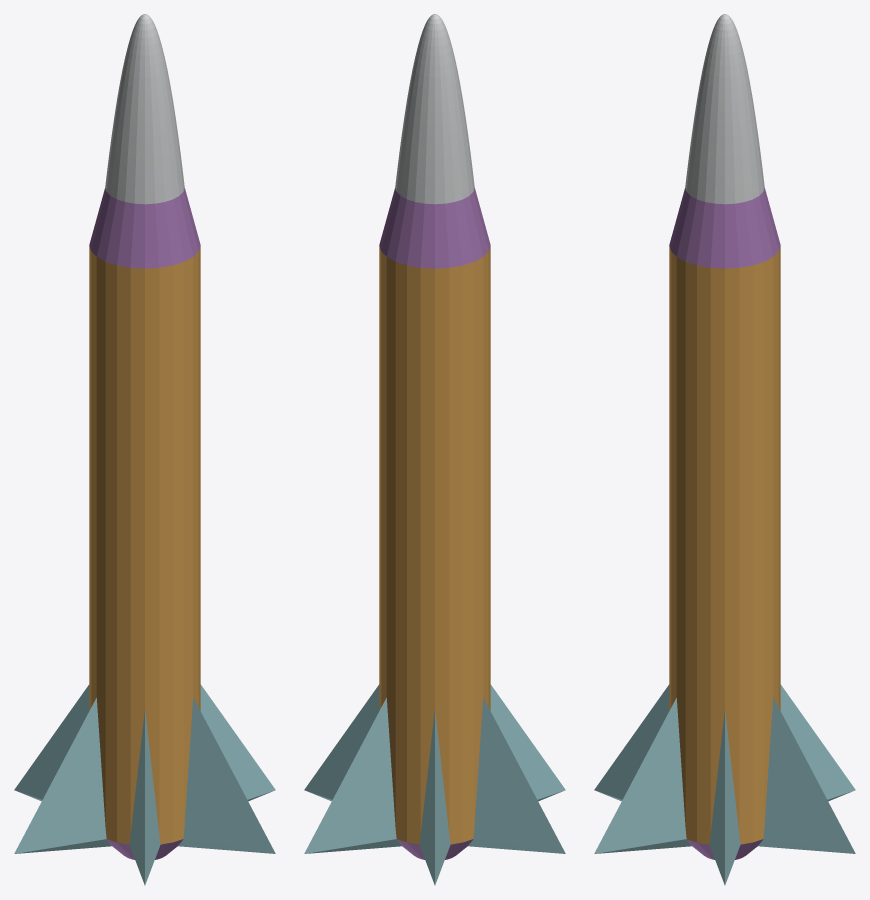
File: rocket.glb
3 views of the same model, side by side, from view 1: azimuth 30°, elevation 25°; view 2: azimuth 150°, elevation 25°; view 3: azimuth 270°, elevation 25° (orthographic).
Parts seen in each view (by area): view 1: Mesh_Mesh_head_geo.001_lambert2SG.001; view 2: Mesh_Mesh_head_geo.001_lambert2SG.001; view 3: Mesh_Mesh_head_geo.001_lambert2SG.001.
Boxes of the visible parts, x1,y1,x2,y2 form: Mesh_Mesh_head_geo.001_lambert2SG.001: (14,14,275,885); Mesh_Mesh_head_geo.001_lambert2SG.001: (304,14,565,885); Mesh_Mesh_head_geo.001_lambert2SG.001: (594,14,855,885).
Bounding box in the file's own units: 38 × 116 × 32.91.
